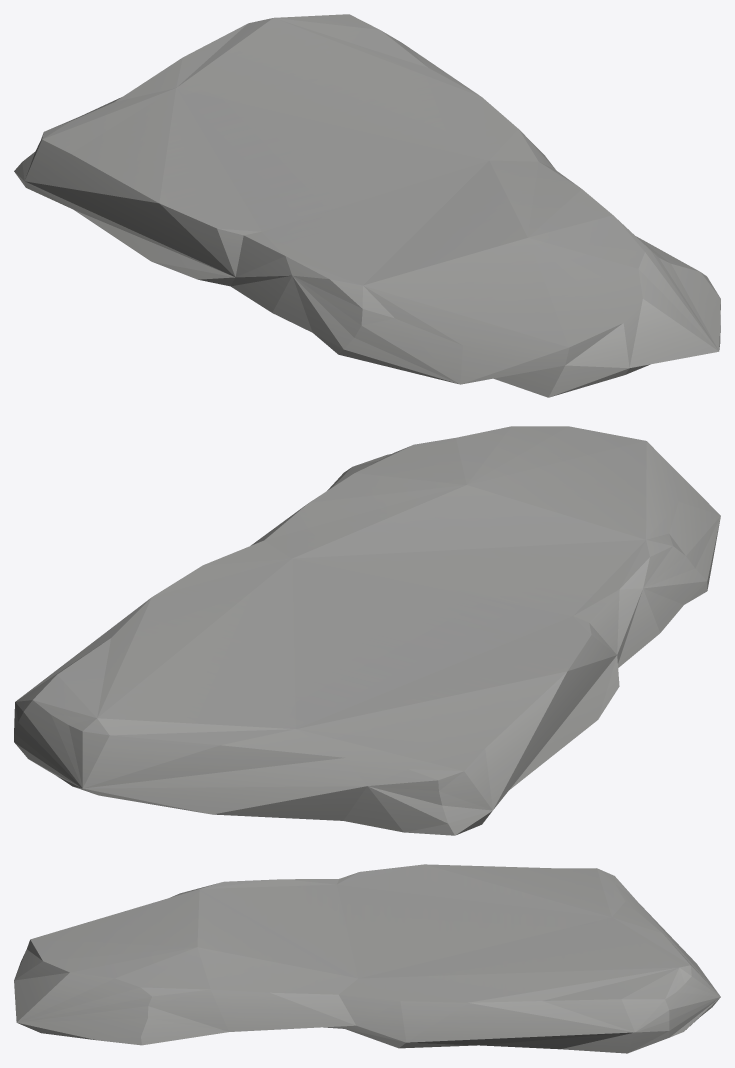
Rendered from Cavern_Step_Sml-02.fbx.
3 renders of one model, top to bottom at view 1: azimuth 30°, elevation 25°; view 2: azimuth 150°, elevation 25°; view 3: azimuth 270°, elevation 25°, orthographic. The views are drawn at different scales.
Visible parts, largest first — view 1: Cavern_Step_Sml-02; view 2: Cavern_Step_Sml-02; view 3: Cavern_Step_Sml-02.
Boxes of the visible parts, x1,y1,x2,y2 form: Cavern_Step_Sml-02: [14, 14, 720, 397]; Cavern_Step_Sml-02: [14, 426, 720, 835]; Cavern_Step_Sml-02: [14, 864, 720, 1053].
Bounding box in the file's own units: 116 × 18.63 × 212.
1 material, 1 textured.
